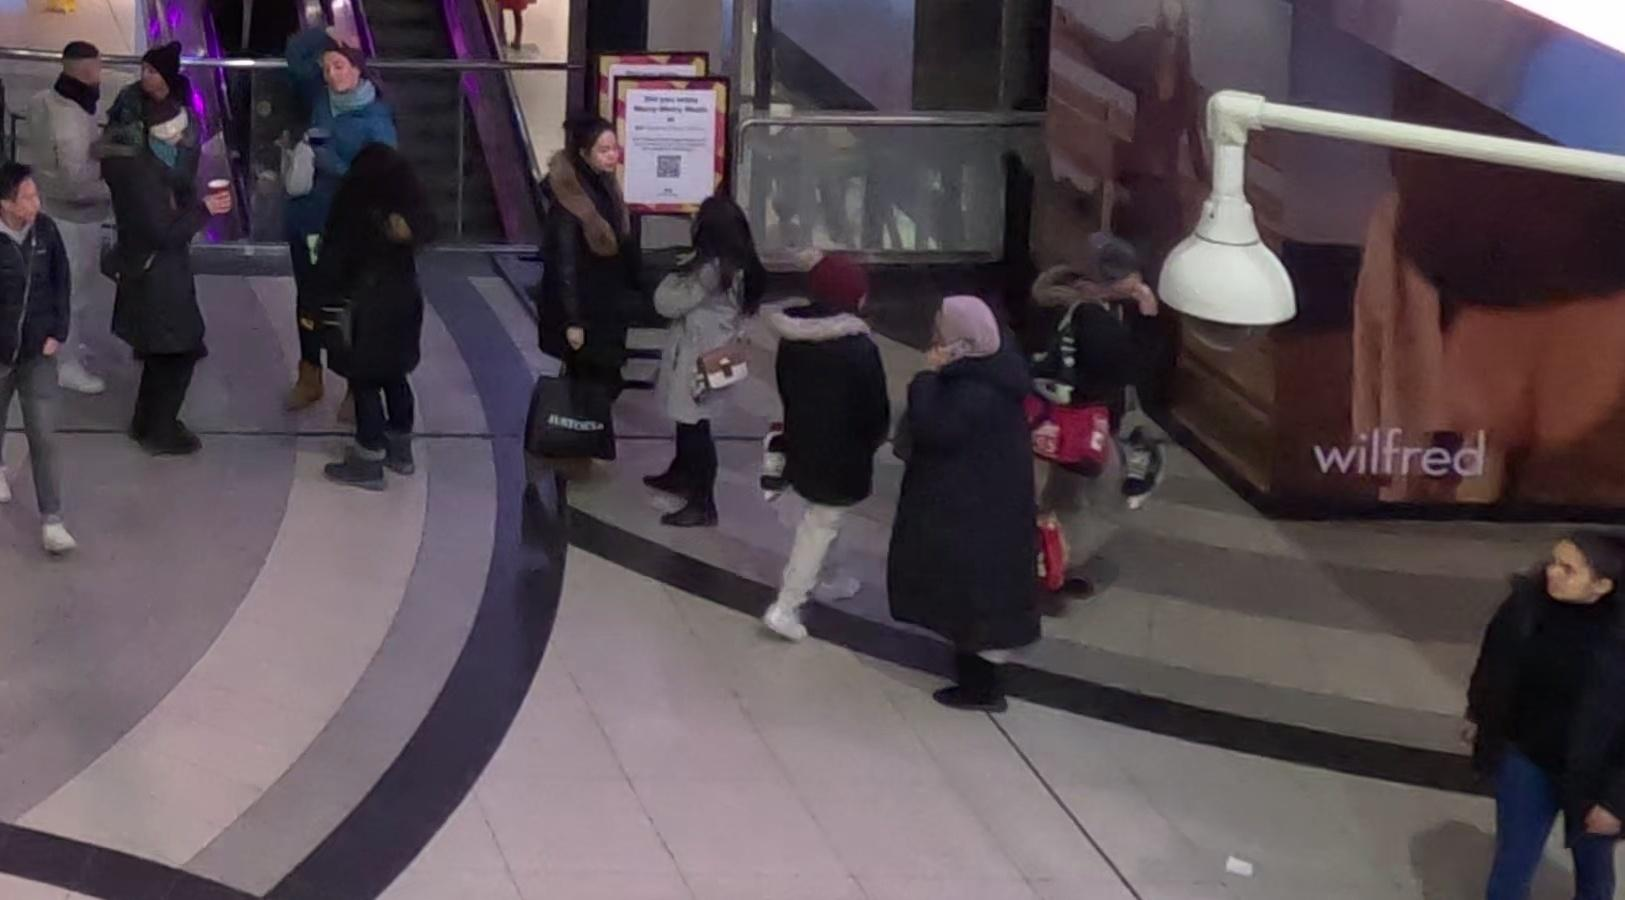person: (884, 298, 1069, 717), (1446, 520, 1625, 897), (740, 251, 896, 649), (521, 114, 651, 507), (1027, 232, 1155, 617), (640, 187, 775, 537), (93, 92, 220, 462), (313, 137, 439, 496), (1, 152, 88, 569)
